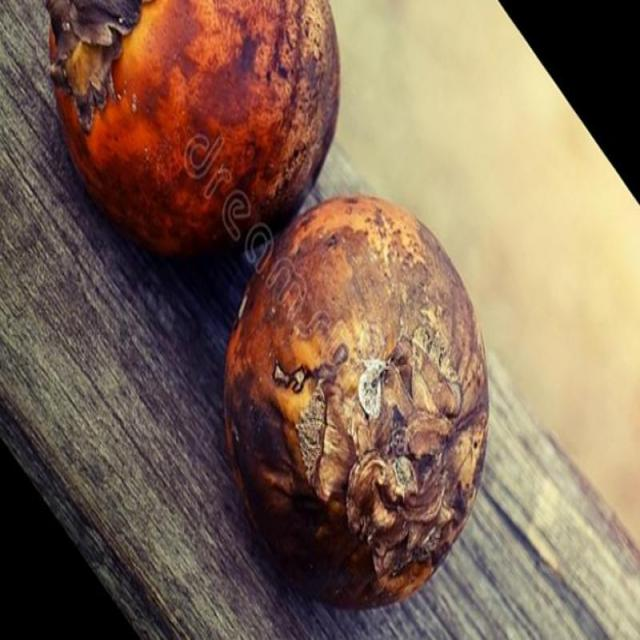damaged: (223, 197, 490, 611), (46, 0, 341, 261)
